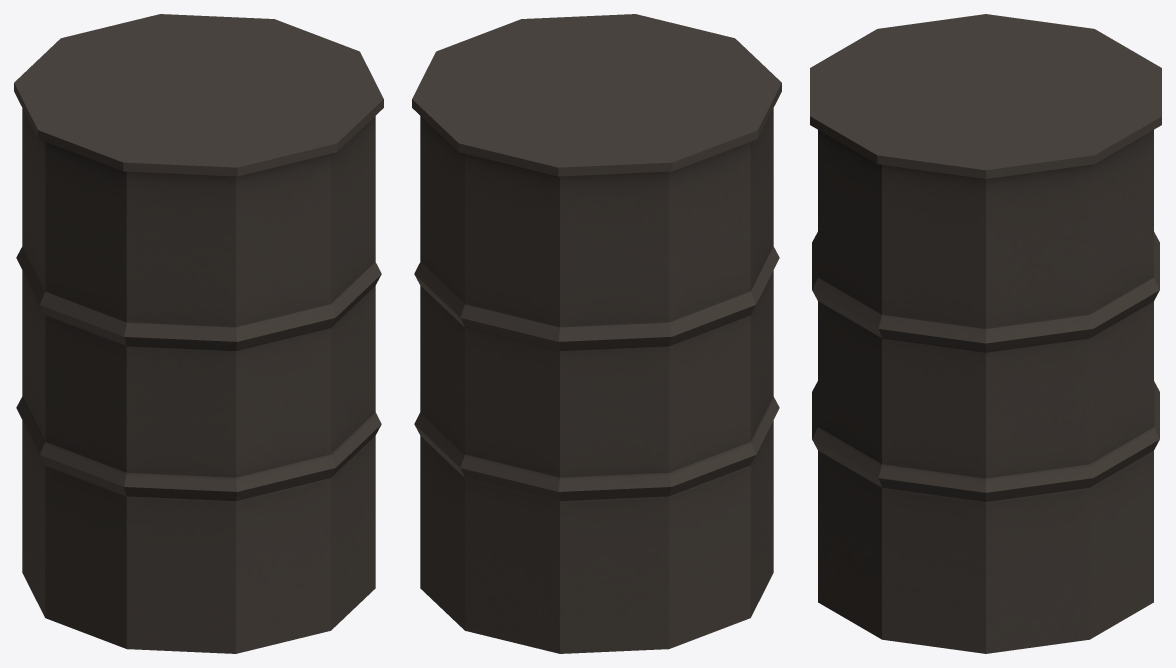
Rendered from Barrel_Brown.fbx.
3 renders of one model, left to right at view 1: azimuth 30°, elevation 25°; view 2: azimuth 150°, elevation 25°; view 3: azimuth 270°, elevation 25°, orthographic.
Visible parts, largest first — view 1: Barrel_Brown; view 2: Barrel_Brown; view 3: Barrel_Brown.
Part boxes in pixels (left/top/right/bottom): Barrel_Brown: left=14, top=14, right=383, bottom=653; Barrel_Brown: left=412, top=14, right=781, bottom=653; Barrel_Brown: left=810, top=14, right=1161, bottom=653.
Size of the model in its own units: 15.08 by 21.92 by 14.34.
